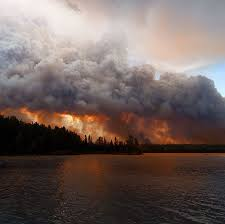fire: (22, 115, 176, 151)
smoke: (1, 29, 222, 114)
